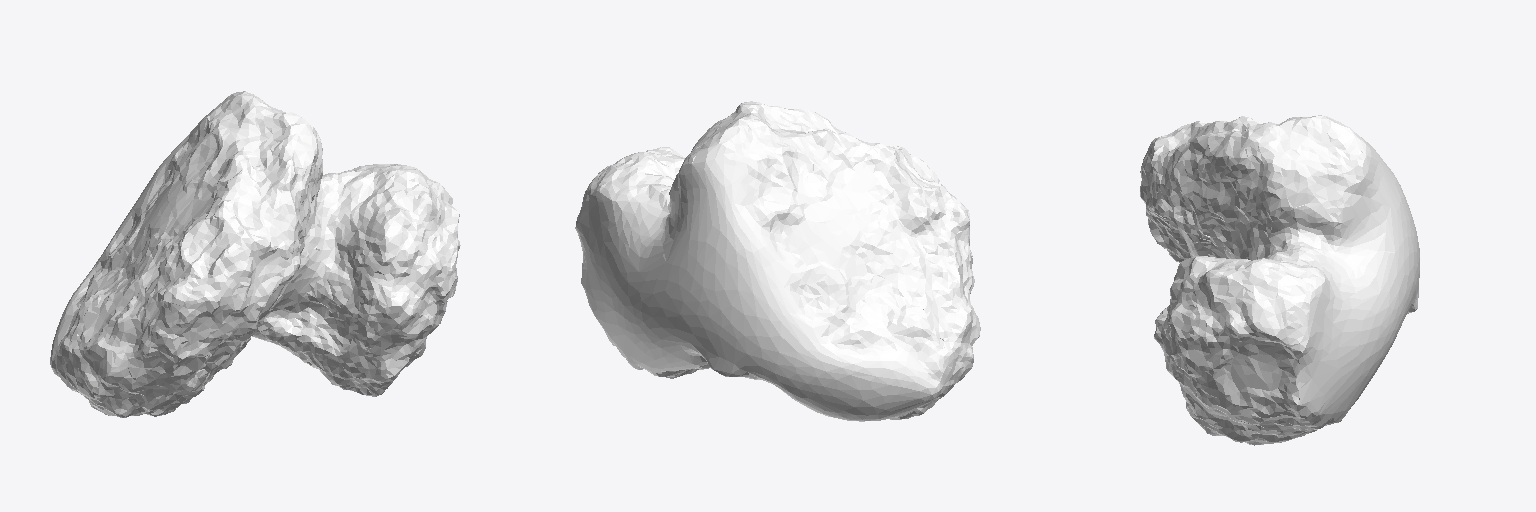
The picture shows the model from 3 angles: view 1: azimuth 30°, elevation 25°; view 2: azimuth 150°, elevation 25°; view 3: azimuth 270°, elevation 25°; orthographic projection.
Parts seen in each view (by area): view 1: polygons; view 2: polygons; view 3: polygons.
Part boxes in pixels (x1,y1,x2,y2): polygons: (50, 91, 460, 417); polygons: (575, 101, 980, 421); polygons: (1140, 115, 1419, 445).
Bounding box in the file's own units: 5.01 × 3.69 × 3.25.